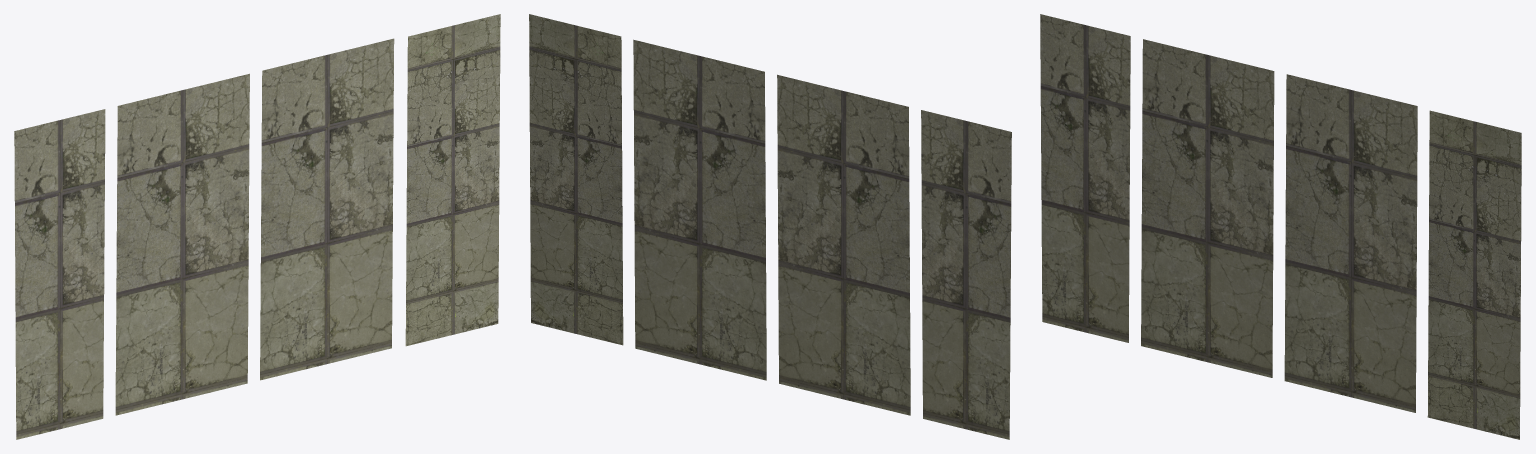
File: SM_Republic_02_windows_02.fbx
3 views of the same model, side by side, from view 1: azimuth 30°, elevation 25°; view 2: azimuth 150°, elevation 25°; view 3: azimuth 330°, elevation 25° (orthographic).
Parts seen in each view (by area): view 1: SM_Republic_02_00.031, SM_Republic_02_00.029, SM_Republic_02_00.028, SM_Republic_02_00.030; view 2: SM_Republic_02_00.031, SM_Republic_02_00.029, SM_Republic_02_00.028, SM_Republic_02_00.030; view 3: SM_Republic_02_00.031, SM_Republic_02_00.029, SM_Republic_02_00.028, SM_Republic_02_00.030.
Part boxes in pixels (<box>): SM_Republic_02_00.031: <box>115,73,249,415</box>; SM_Republic_02_00.029: <box>260,38,394,380</box>; SM_Republic_02_00.028: <box>405,14,500,346</box>; SM_Republic_02_00.030: <box>14,109,105,439</box>; SM_Republic_02_00.031: <box>777,74,910,415</box>; SM_Republic_02_00.029: <box>633,39,766,380</box>; SM_Republic_02_00.028: <box>529,14,623,345</box>; SM_Republic_02_00.030: <box>921,110,1011,439</box>; SM_Republic_02_00.031: <box>1141,39,1274,377</box>; SM_Republic_02_00.029: <box>1284,74,1417,412</box>; SM_Republic_02_00.028: <box>1427,110,1521,439</box>; SM_Republic_02_00.030: <box>1040,14,1130,342</box>.
Size of the model in its own units: 530 by 323 by 1.95.
